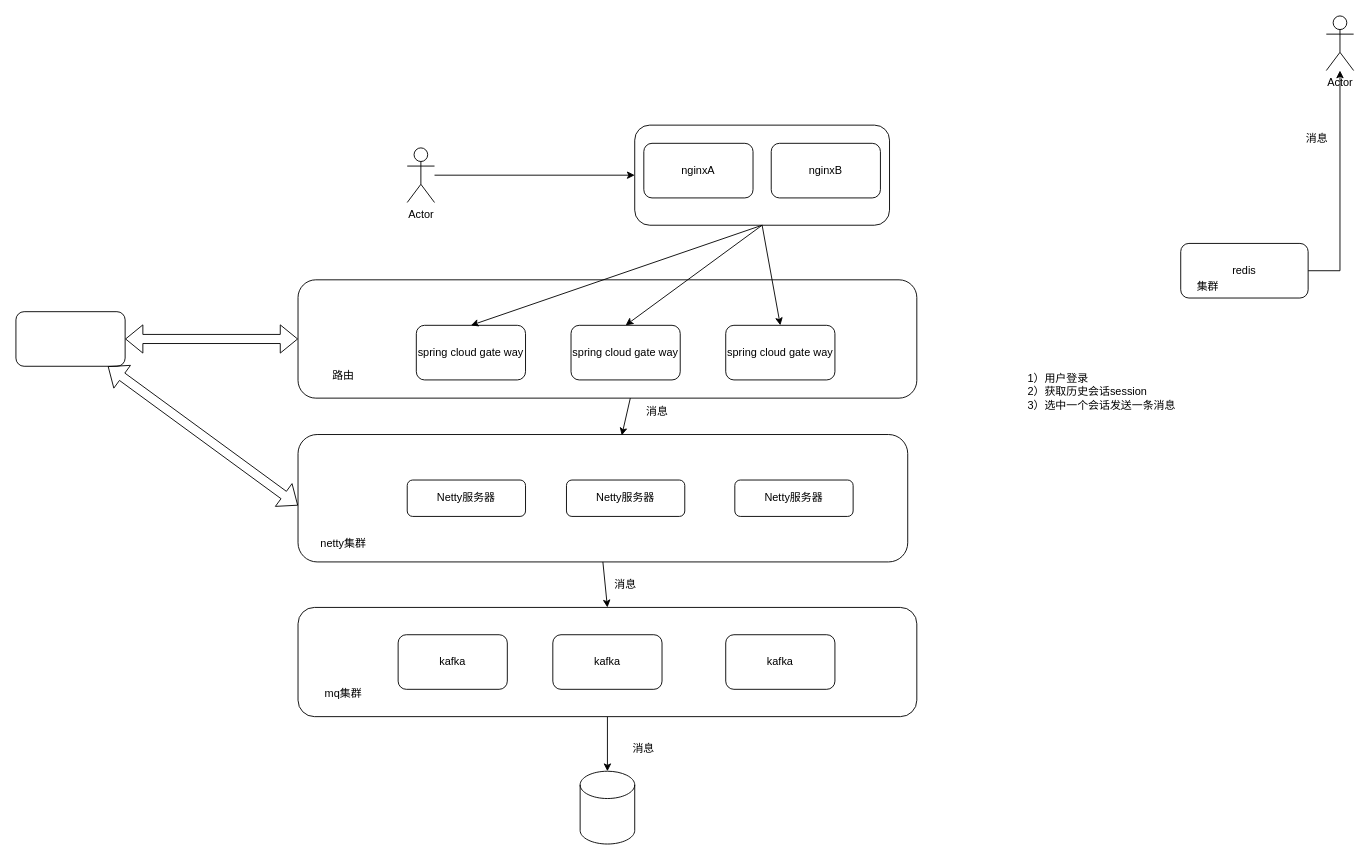
Image size: 1370x860. Some labels were removed from this diagram. The centre of each missing label's shape, as x and y in pixels:
Nacos服务注册与发现: point 70,338
数据库: point 607,807
